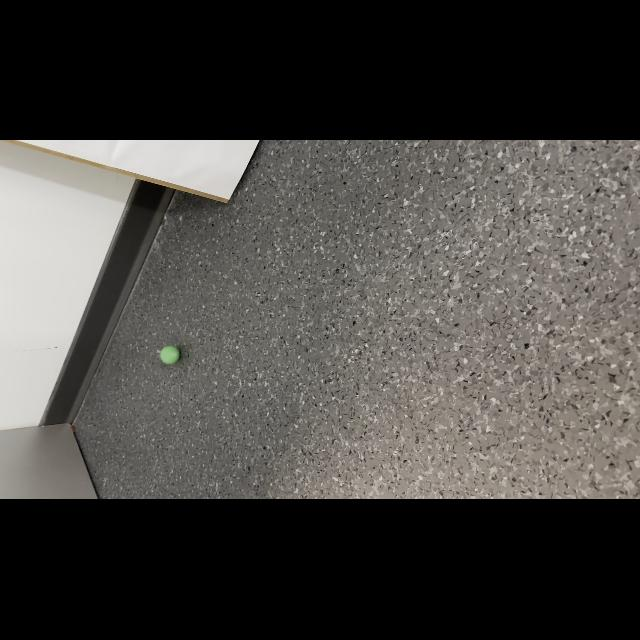objects: (158, 344, 182, 366)
